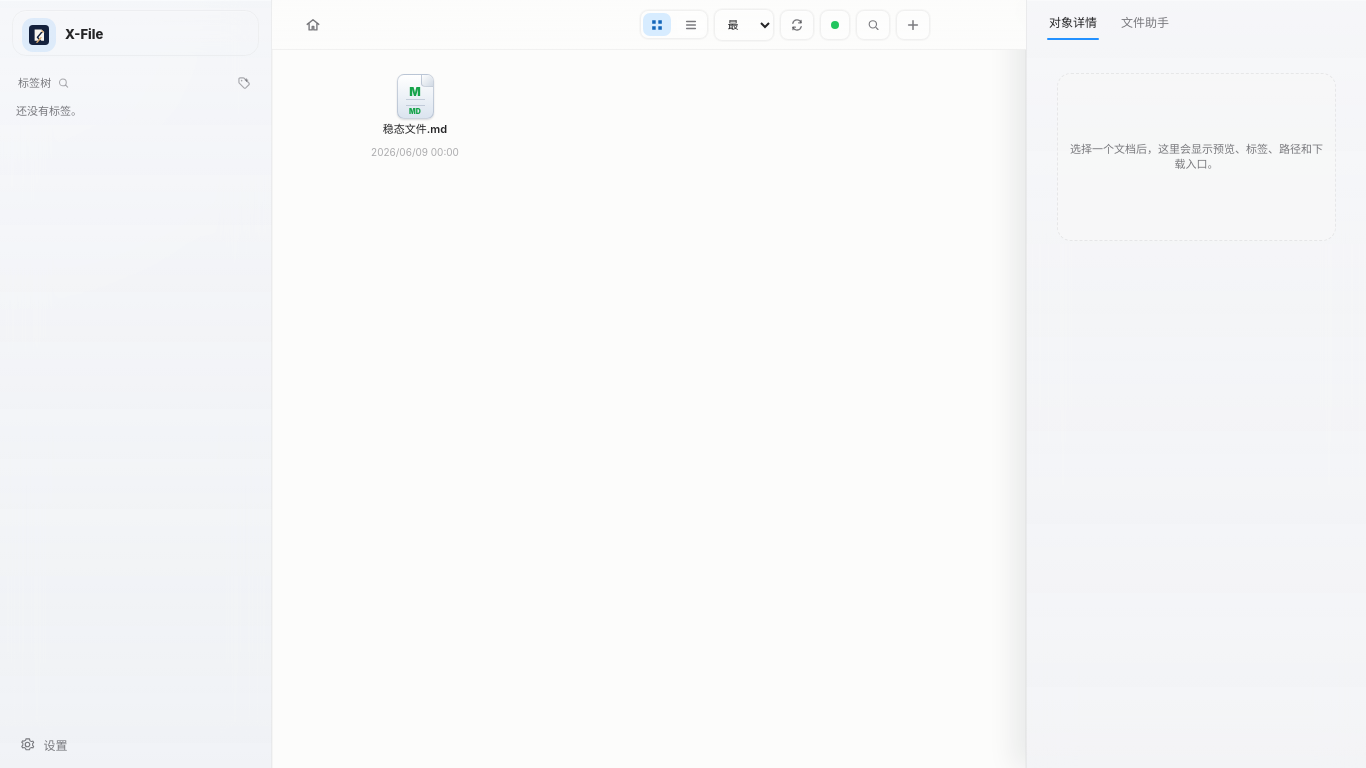
第 6 批：索引状态、刷新策略和缓存替换 › 稳态下 progress 缺失时用文档计数兜底显示摘要网格与目录状态
The image size is (1366, 768).
Hover over the button named "索引状态：已就绪" at (835, 24), box [823,12,847,38]
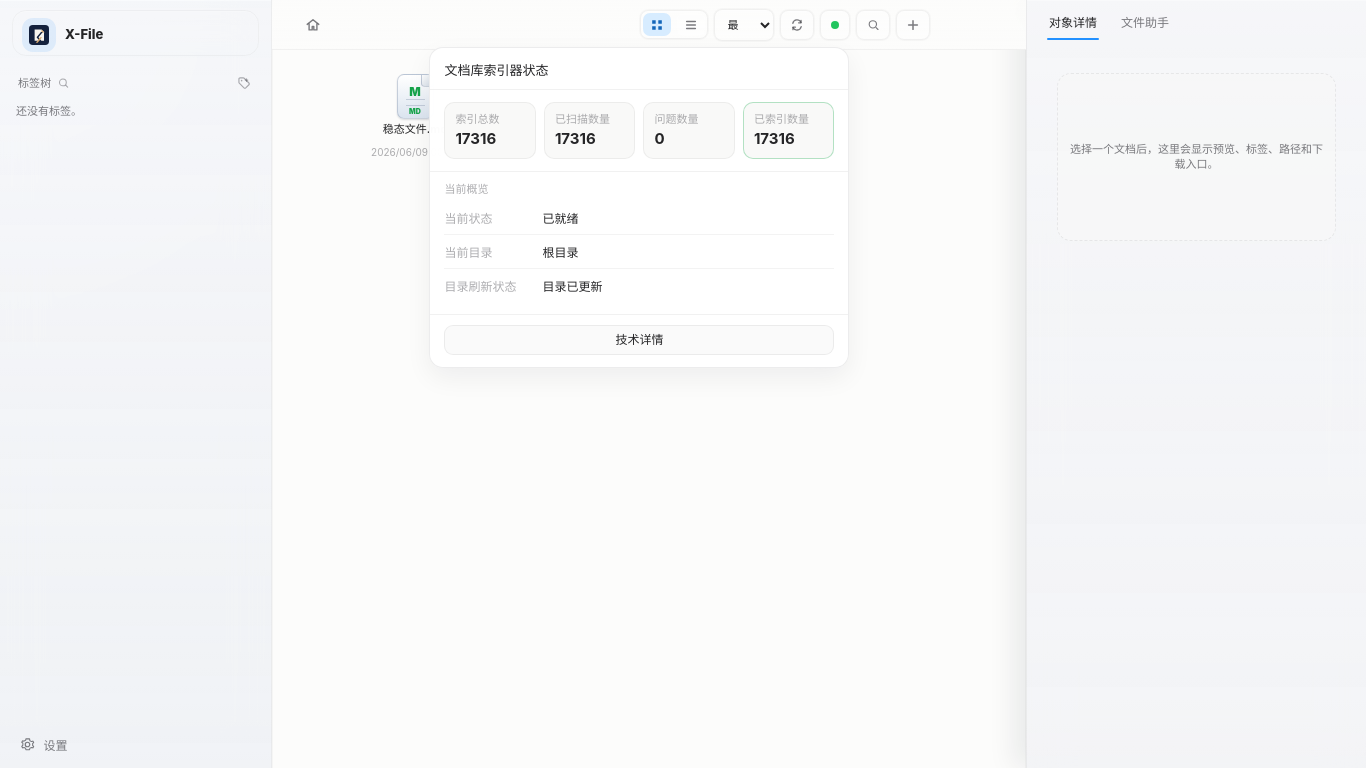
Check: the text "索引总数" is shown, box [455,112,499,126]
Check: the text "已扫描数量" is shown, box [555,112,610,126]
Check: the text "问题数量" is shown, box [654,112,698,126]
